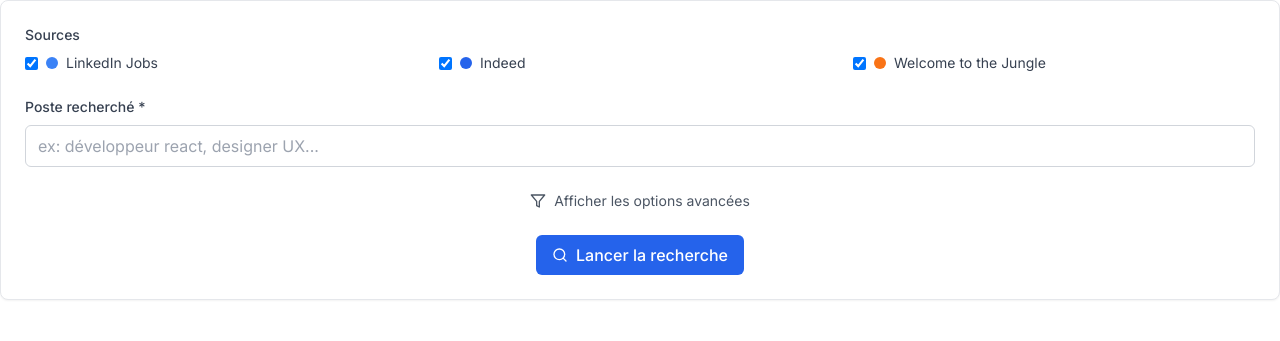
Scenario: JobSearchForm › requires at least one source and a job title
Click the button "Lancer la recherche". click: (640, 255)
box: [536,235,744,275]
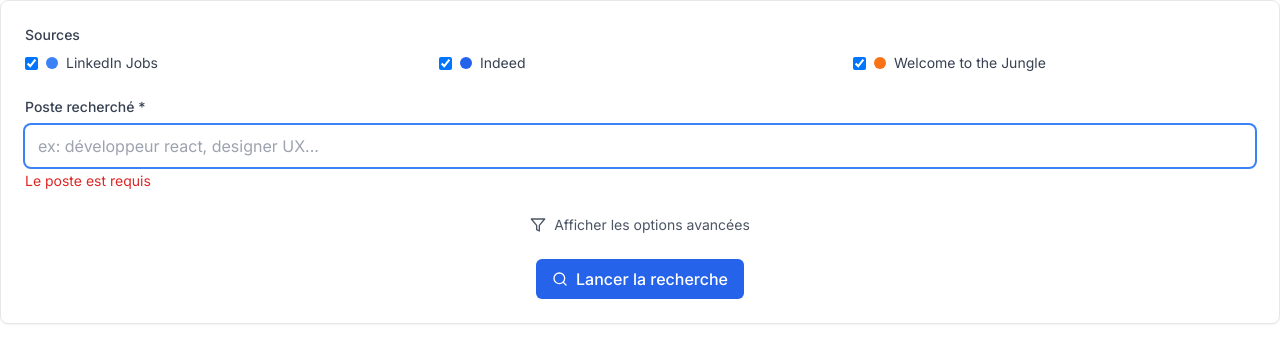
expect the text "Le poste est requis" is shown: met, box [25,172,151,189]
